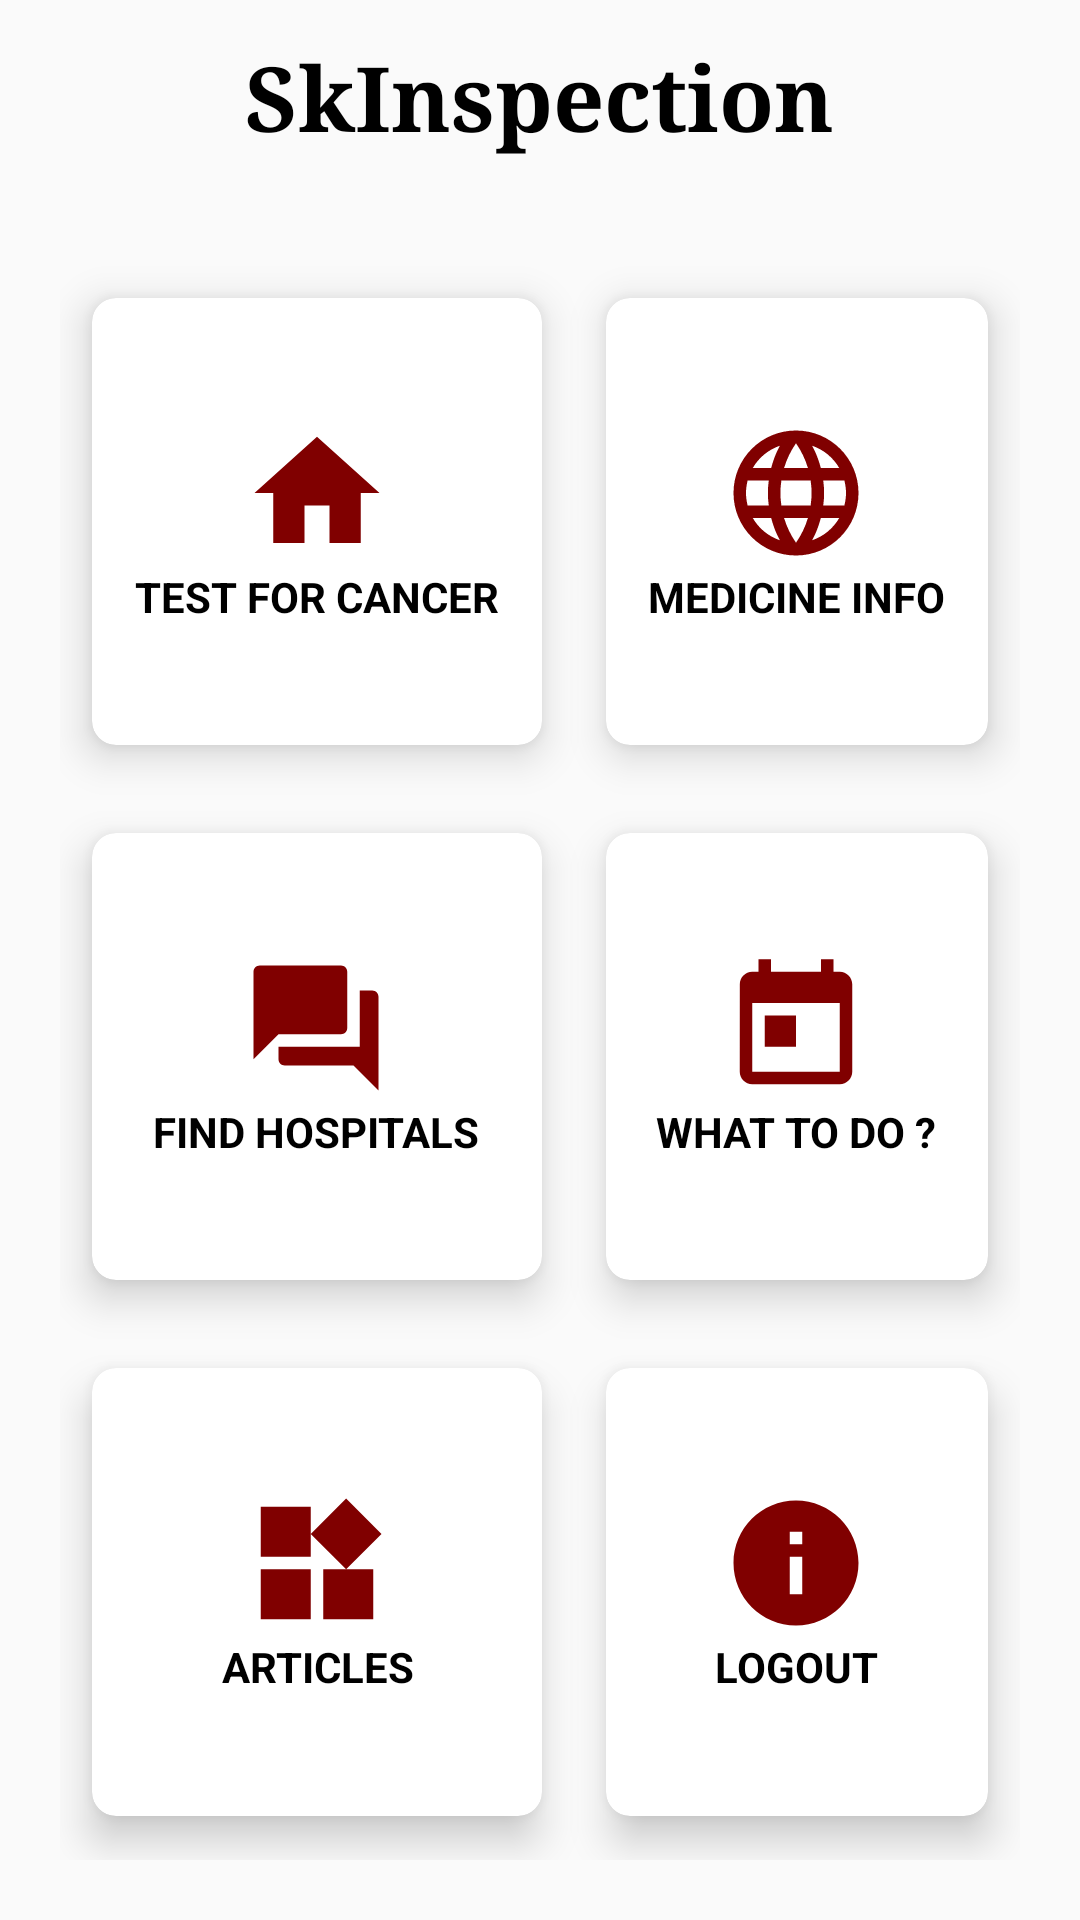

Screen size 1080px×1920px. Icon name, then its box in pixels as (x1, y1, x2, y2):
calendar: (739, 959, 853, 1085)
chat: (253, 965, 379, 1091)
home: (255, 437, 379, 543)
info: (733, 1500, 859, 1626)
language: (733, 430, 859, 556)
widgets: (260, 1498, 382, 1620)
